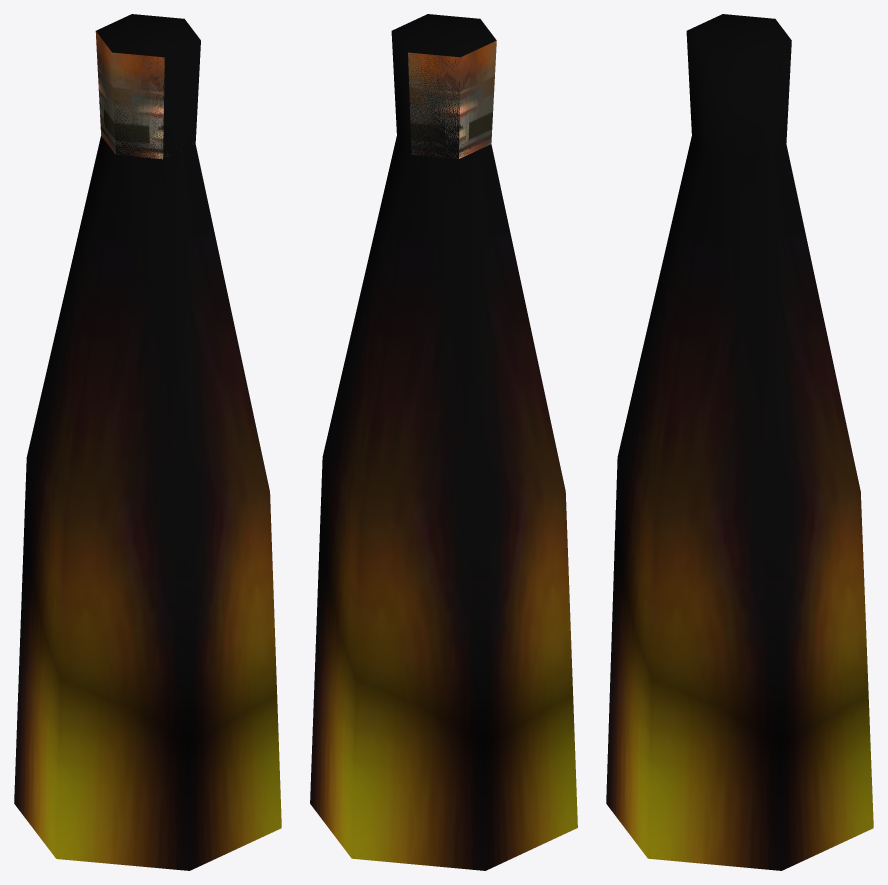
3 views of the same model, side by side, from view 1: azimuth 30°, elevation 25°; view 2: azimuth 150°, elevation 25°; view 3: azimuth 270°, elevation 25° (orthographic).
Size of the model in its own units: 0.1895 by 0.6256 by 0.1945.
5 materials, 5 textured.
